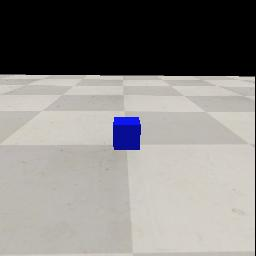box: (113, 116, 141, 150)
